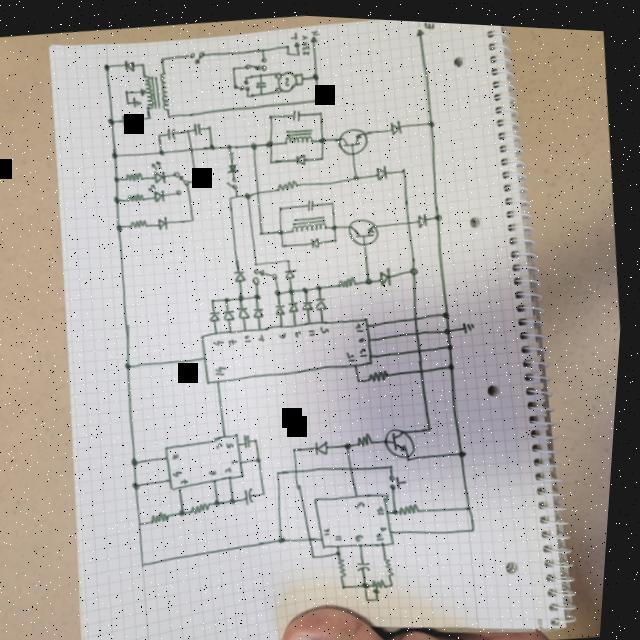capacitor: (247, 483, 261, 504), (361, 556, 378, 570), (289, 105, 303, 121), (164, 124, 178, 140), (304, 195, 318, 210), (190, 120, 204, 134), (246, 430, 257, 447), (254, 77, 267, 87)
crossover: (413, 310, 423, 319), (351, 460, 360, 469), (311, 532, 321, 540), (255, 186, 263, 194), (419, 342, 426, 351), (187, 145, 195, 152), (406, 215, 414, 222), (416, 326, 423, 333), (421, 363, 428, 370), (297, 464, 304, 471)
diode: (150, 157, 171, 184), (147, 181, 168, 203), (377, 262, 396, 285), (316, 436, 335, 454), (232, 265, 251, 282), (154, 213, 171, 231), (387, 114, 403, 133), (416, 207, 431, 226), (315, 292, 331, 309), (374, 161, 389, 179), (294, 149, 310, 164), (309, 232, 325, 247), (275, 299, 290, 315), (225, 159, 241, 174), (238, 303, 253, 318), (285, 264, 300, 279), (303, 296, 318, 310), (254, 303, 268, 317), (225, 306, 239, 320), (121, 111, 134, 126), (123, 57, 136, 72), (211, 308, 224, 321), (289, 298, 302, 311)
ground: (463, 314, 480, 331), (132, 96, 143, 107)
inductor: (291, 210, 330, 233), (282, 123, 315, 145)
junction: (442, 305, 454, 317), (281, 531, 293, 542), (135, 478, 147, 489), (217, 494, 228, 506), (365, 272, 376, 283), (125, 359, 136, 370), (351, 168, 362, 179), (110, 149, 121, 160), (346, 438, 358, 448), (101, 61, 111, 72), (182, 507, 193, 517), (232, 493, 243, 503), (238, 291, 249, 301), (134, 455, 144, 466), (331, 219, 341, 229), (113, 194, 123, 204), (244, 188, 254, 198), (302, 282, 313, 291), (450, 356, 459, 367), (317, 132, 326, 142), (399, 162, 409, 171), (345, 578, 354, 588), (280, 238, 290, 247), (277, 224, 286, 234), (329, 195, 339, 204), (278, 465, 287, 475), (289, 283, 298, 293), (276, 285, 285, 295), (316, 280, 326, 289), (469, 499, 479, 508), (434, 209, 444, 218), (411, 262, 420, 272), (249, 139, 258, 148), (145, 559, 154, 568), (265, 137, 274, 146), (259, 226, 268, 235), (140, 518, 149, 527), (428, 420, 437, 429), (445, 322, 454, 331), (255, 290, 264, 299), (107, 115, 116, 124), (474, 520, 482, 530), (158, 147, 167, 155), (333, 232, 341, 241), (189, 214, 198, 222), (311, 69, 319, 78), (295, 442, 303, 451), (449, 337, 457, 346), (463, 444, 471, 453), (367, 578, 376, 586), (117, 222, 125, 231), (284, 254, 294, 261), (339, 546, 349, 553), (266, 110, 274, 118), (313, 92, 321, 100), (211, 294, 219, 302), (145, 112, 153, 120), (278, 202, 286, 210), (123, 87, 131, 95), (158, 54, 165, 63), (209, 141, 216, 150), (225, 294, 234, 301), (265, 487, 272, 495), (229, 63, 237, 70), (225, 141, 233, 148), (427, 116, 435, 123), (255, 257, 262, 265), (358, 373, 366, 380), (394, 576, 402, 583), (124, 98, 132, 105), (114, 174, 121, 182), (259, 453, 266, 460), (370, 592, 377, 599), (139, 60, 146, 67), (316, 550, 323, 557), (396, 504, 403, 511), (319, 151, 325, 159), (317, 107, 323, 114), (268, 156, 275, 162), (235, 191, 242, 197), (193, 176, 200, 182), (257, 435, 263, 441), (381, 592, 386, 598), (410, 453, 415, 458), (295, 49, 300, 53), (243, 73, 248, 77), (284, 42, 288, 46), (259, 46, 263, 50), (259, 90, 263, 94), (258, 71, 262, 75), (245, 91, 249, 95), (167, 112, 171, 116), (157, 132, 161, 136), (185, 128, 189, 132), (207, 124, 211, 128), (285, 48, 288, 52)
resistor: (276, 175, 301, 191), (154, 508, 177, 525), (376, 572, 395, 591), (402, 497, 426, 512), (338, 271, 360, 287), (371, 364, 393, 379), (359, 429, 379, 445), (195, 498, 216, 513), (128, 217, 150, 231), (388, 549, 401, 572), (343, 555, 355, 578), (124, 170, 145, 183), (126, 191, 147, 203), (227, 148, 236, 159)
switch: (171, 166, 194, 196), (252, 262, 281, 284), (242, 53, 268, 71), (187, 47, 206, 64), (231, 76, 250, 91), (226, 174, 239, 188), (228, 192, 235, 199)
terminal: (414, 23, 424, 33), (291, 37, 301, 46), (307, 33, 318, 41)
text: (392, 469, 414, 488), (298, 32, 310, 53), (217, 361, 231, 375), (348, 346, 360, 360), (358, 496, 372, 507), (338, 528, 350, 540), (308, 323, 320, 335), (320, 321, 333, 332), (359, 529, 371, 540), (174, 449, 186, 460), (257, 330, 269, 341), (295, 325, 306, 337), (356, 319, 368, 330), (328, 522, 338, 534), (280, 327, 291, 337), (380, 502, 391, 512), (287, 28, 298, 38), (359, 331, 370, 341), (361, 343, 371, 354), (385, 518, 395, 529), (211, 466, 223, 475), (382, 526, 391, 538), (422, 17, 434, 26), (307, 25, 319, 34), (230, 335, 241, 344), (246, 331, 255, 342), (177, 467, 188, 476), (214, 337, 228, 344), (229, 438, 239, 447), (227, 464, 238, 472), (185, 475, 195, 483), (219, 440, 229, 447), (235, 456, 244, 463)
transformer: (135, 69, 175, 115)
transistor: (387, 420, 423, 456), (345, 211, 382, 246), (335, 121, 370, 154)
